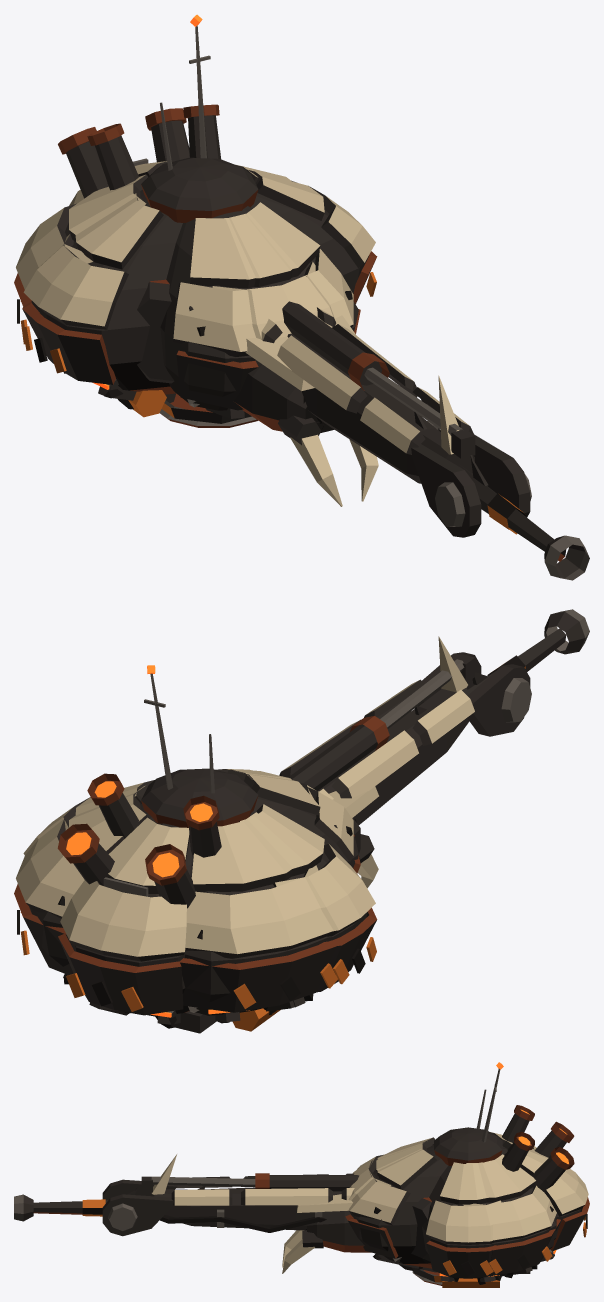
Rendered from guardian.glb.
3 renders of one model, top to bottom at view 1: azimuth 30°, elevation 25°; view 2: azimuth 150°, elevation 25°; view 3: azimuth 270°, elevation 25°, orthographic. The views are drawn at different scales.
Parts seen in each view (by area): view 1: Guardian_Body3, Guardian_Body4, Guardian_Femur, Guardian_Tibia; view 2: Guardian_Body3, Guardian_Body4, Guardian_Femur, Guardian_Tibia; view 3: Guardian_Body3, Guardian_Body4, Guardian_Femur, Guardian_Tibia.
Boxes of the visible parts, box(x1,y1,x2,y2) form: Guardian_Body3: box(14, 14, 378, 506); Guardian_Body4: box(22, 108, 377, 409); Guardian_Femur: box(261, 301, 531, 537); Guardian_Tibia: box(414, 412, 589, 580); Guardian_Body3: box(14, 665, 378, 1033); Guardian_Body4: box(23, 769, 377, 1028); Guardian_Femur: box(279, 636, 531, 825); Guardian_Tibia: box(414, 609, 589, 714); Guardian_Body3: box(282, 1062, 560, 1287); Guardian_Body4: box(348, 1121, 589, 1284); Guardian_Femur: box(102, 1154, 359, 1236); Guardian_Tibia: box(14, 1186, 205, 1221).
Bounding box in the file's own units: 7.96 × 8.22 × 20.01.
